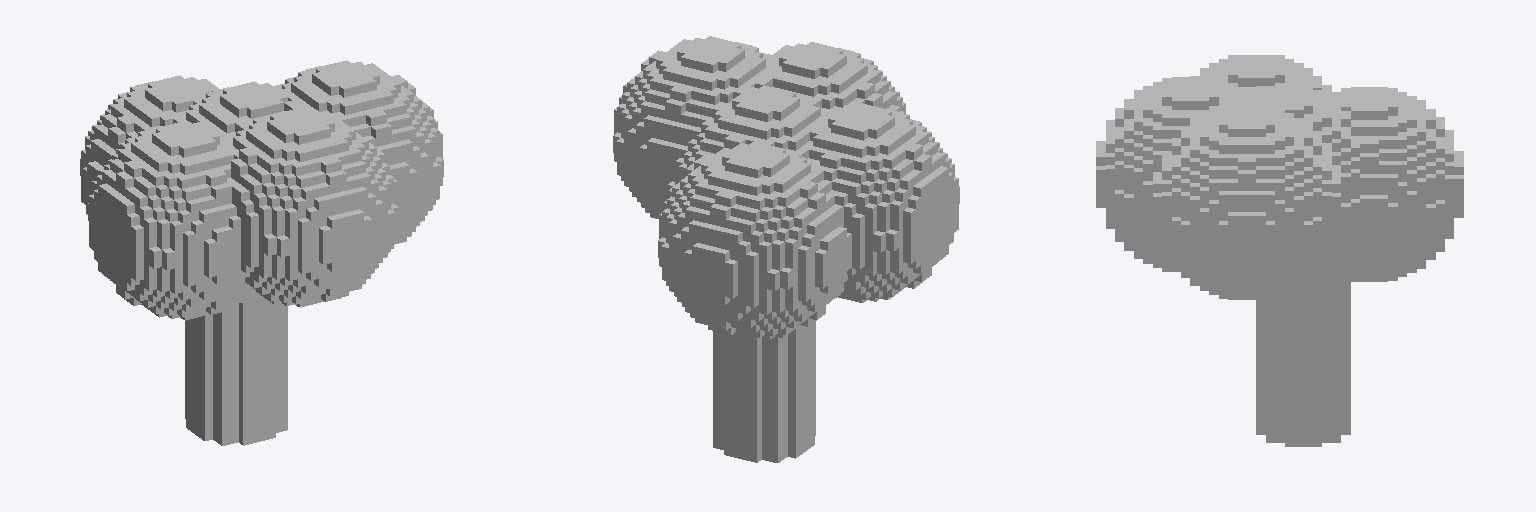
Rendered from tree1.obj.
3 views of the same model, side by side, from view 1: azimuth 30°, elevation 25°; view 2: azimuth 150°, elevation 25°; view 3: azimuth 270°, elevation 25° (orthographic).
Size of the model in its own units: 38 by 41 by 39.